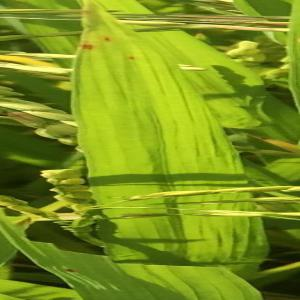Brown_Spot: (76, 38, 96, 55), (124, 49, 140, 64), (100, 32, 115, 44), (63, 266, 79, 277)
